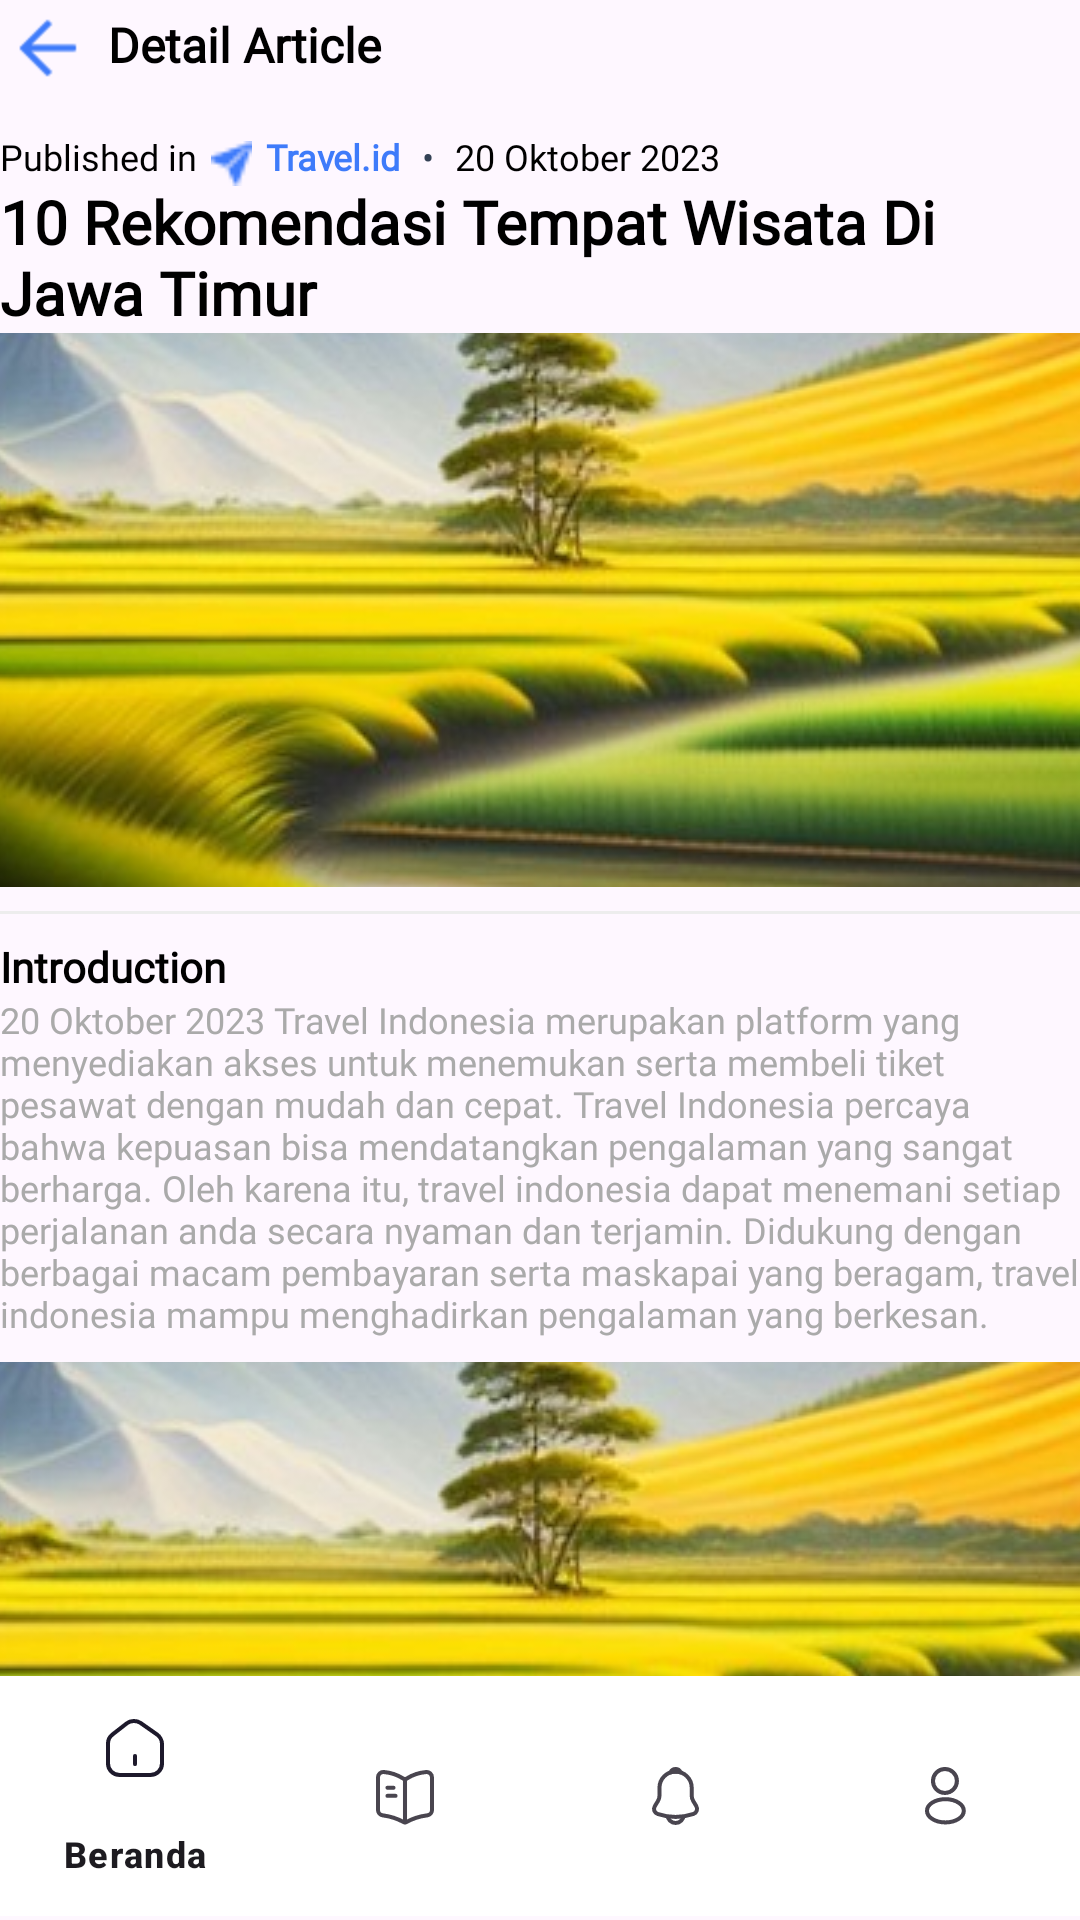

Where to tap for icons on this 1080x1920 app screen, as point (x, y):
left arrow: point (48, 48)
